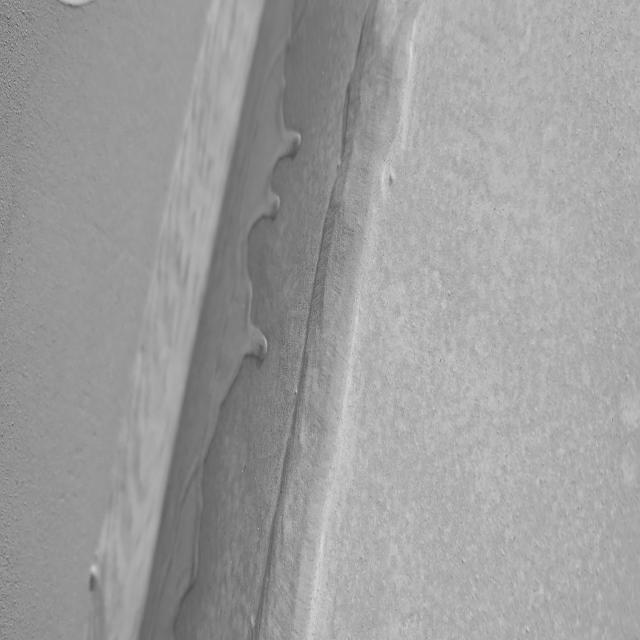paint drips: (134, 8, 304, 636)
